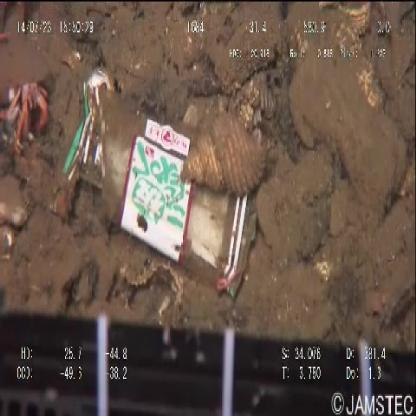Rác: (49, 67, 259, 301)
